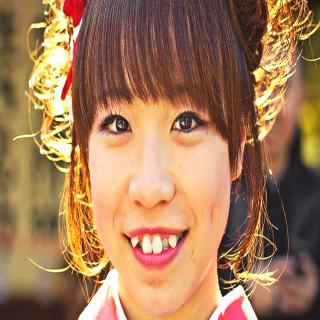maligned: (151, 236, 163, 256), (161, 235, 171, 251), (129, 235, 139, 249), (168, 234, 178, 246), (136, 239, 144, 251)
